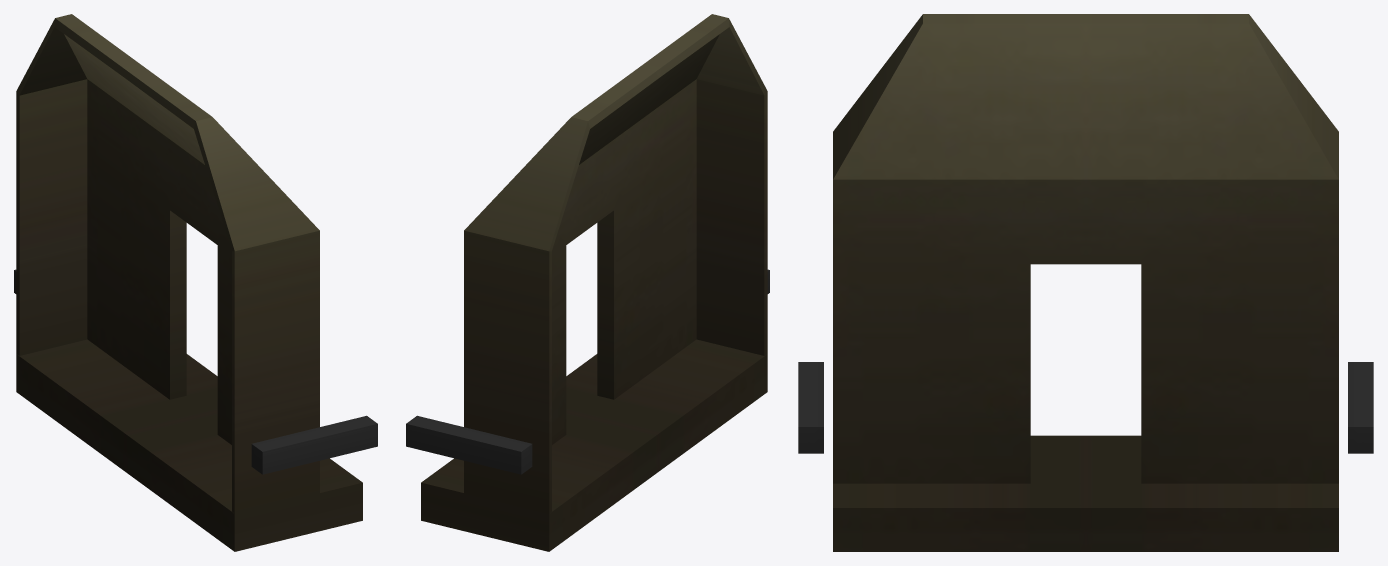
File: train_middle_pb_placeholder_v011.fbx
3 views of the same model, side by side, from view 1: azimuth 30°, elevation 25°; view 2: azimuth 150°, elevation 25°; view 3: azimuth 270°, elevation 25° (orthographic). The views are drawn at different scales.
Visible parts, largest first — view 1: mittelstück p auf b; view 2: mittelstück p auf b; view 3: mittelstück p auf b.
Boxes of the visible parts, x1,y1,x2,y2 form: mittelstück p auf b: (14, 14, 377, 551); mittelstück p auf b: (406, 14, 769, 551); mittelstück p auf b: (798, 14, 1373, 551).
Bounding box in the file's own units: 336 × 300 × 101.
Materials: 2 (2 with a texture image).
